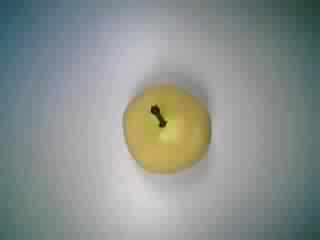pear: (113, 80, 218, 183)
